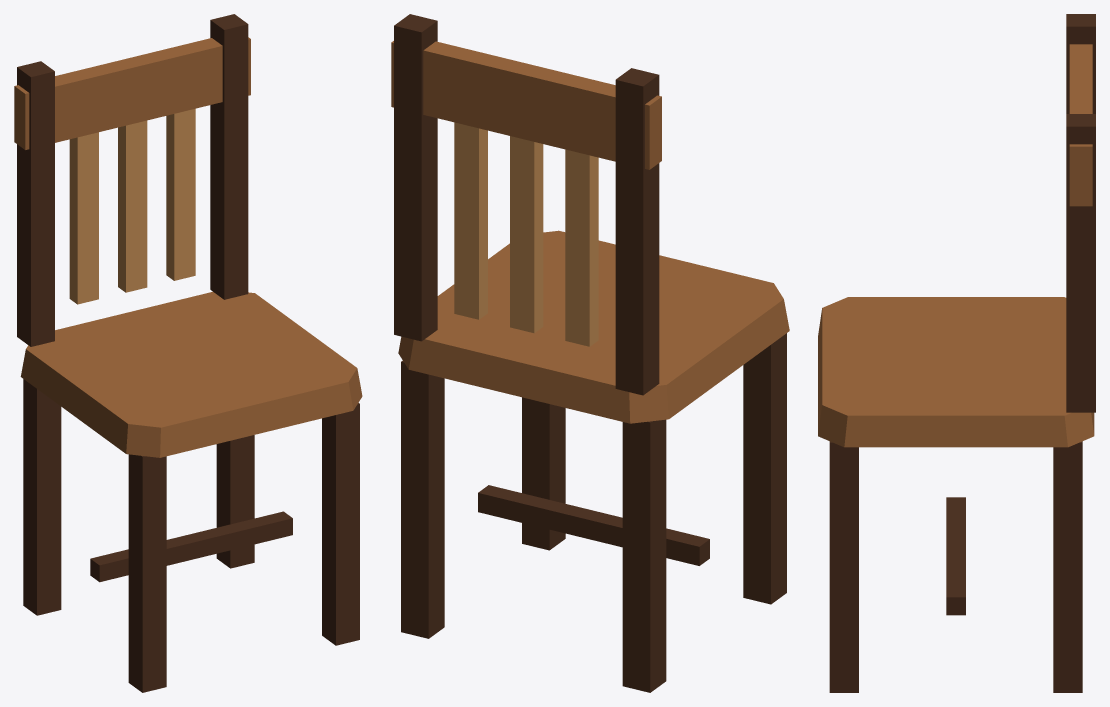
File: chair_wood.obj
The picture shows the model from 3 angles, left to right: view 1: azimuth 30°, elevation 25°; view 2: azimuth 150°, elevation 25°; view 3: azimuth 270°, elevation 25°; orthographic projection. The views are drawn at different scales.
Visible parts, largest first — view 1: chair_wood; view 2: chair_wood; view 3: chair_wood.
Part boxes in pixels (box(x1,y1,x2,y2)): chair_wood: box(14, 14, 362, 692); chair_wood: box(391, 14, 789, 692); chair_wood: box(818, 14, 1095, 692).
Bounding box in the file's own units: 0.44 × 0.95 × 0.4225.
